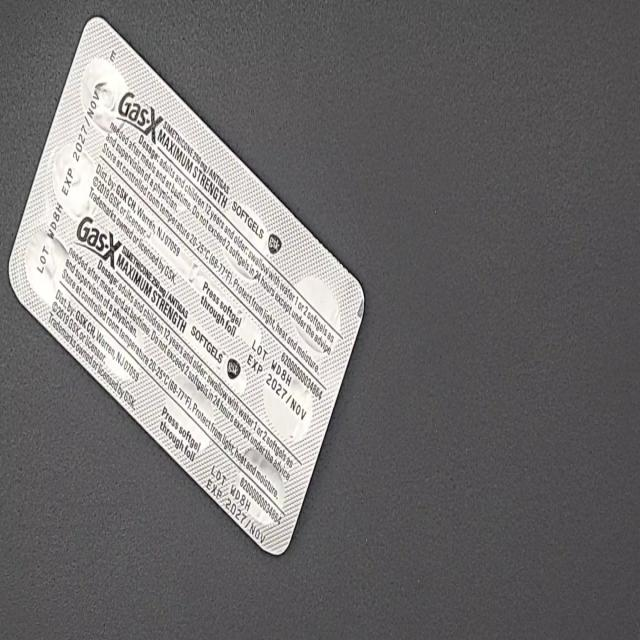no defect: (8, 22, 31, 57)
